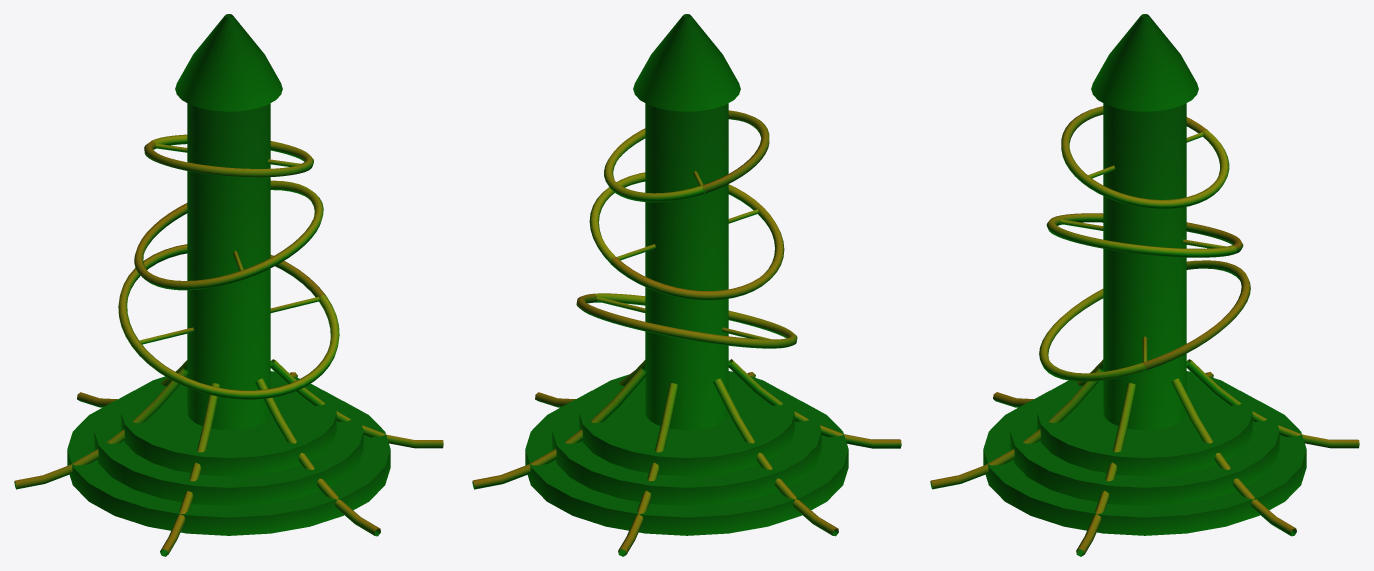
Rendered from anchor_engine.glb.
The picture shows the model from 3 angles, left to right: view 1: azimuth 30°, elevation 25°; view 2: azimuth 150°, elevation 25°; view 3: azimuth 270°, elevation 25°; orthographic projection.
Visible parts, largest first — view 1: anchor_engine; view 2: anchor_engine; view 3: anchor_engine.
Boxes of the visible parts, x1,y1,x2,y2 form: anchor_engine: [14, 14, 443, 556]; anchor_engine: [472, 14, 901, 556]; anchor_engine: [930, 14, 1359, 556].
Size of what is drawn, in the model's own units: 6.25 by 7.42 by 6.37.
